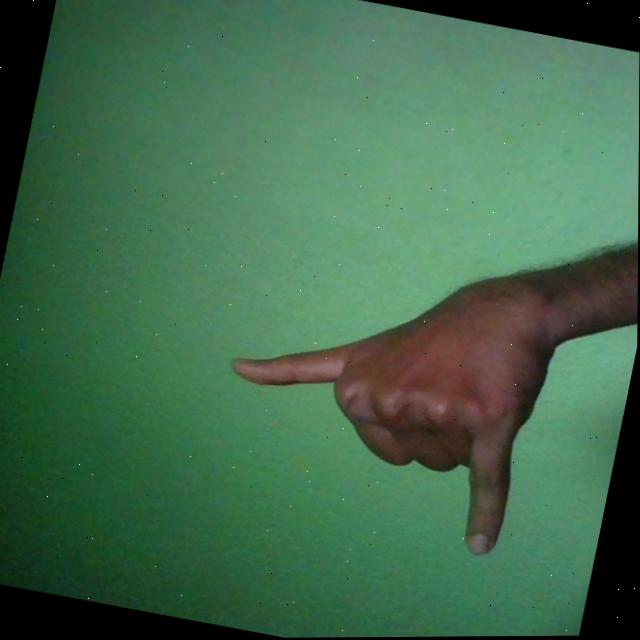Call Me: (201, 210, 576, 564)
